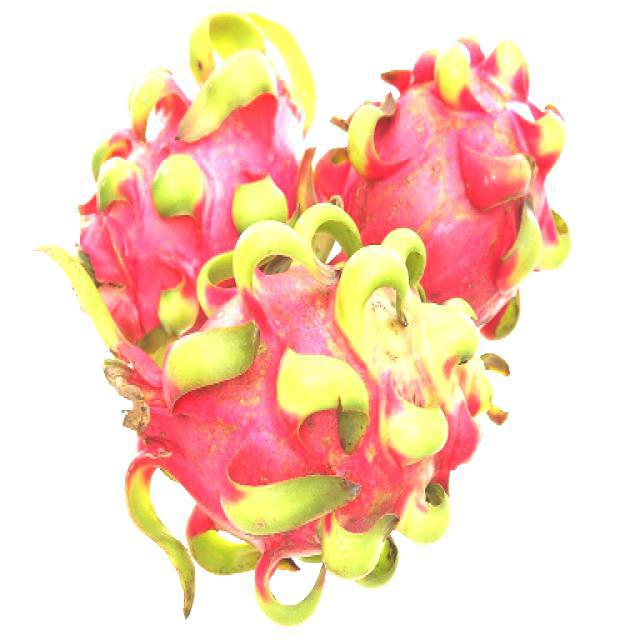do: (125, 214, 489, 620), (61, 3, 297, 363), (299, 36, 573, 344)
